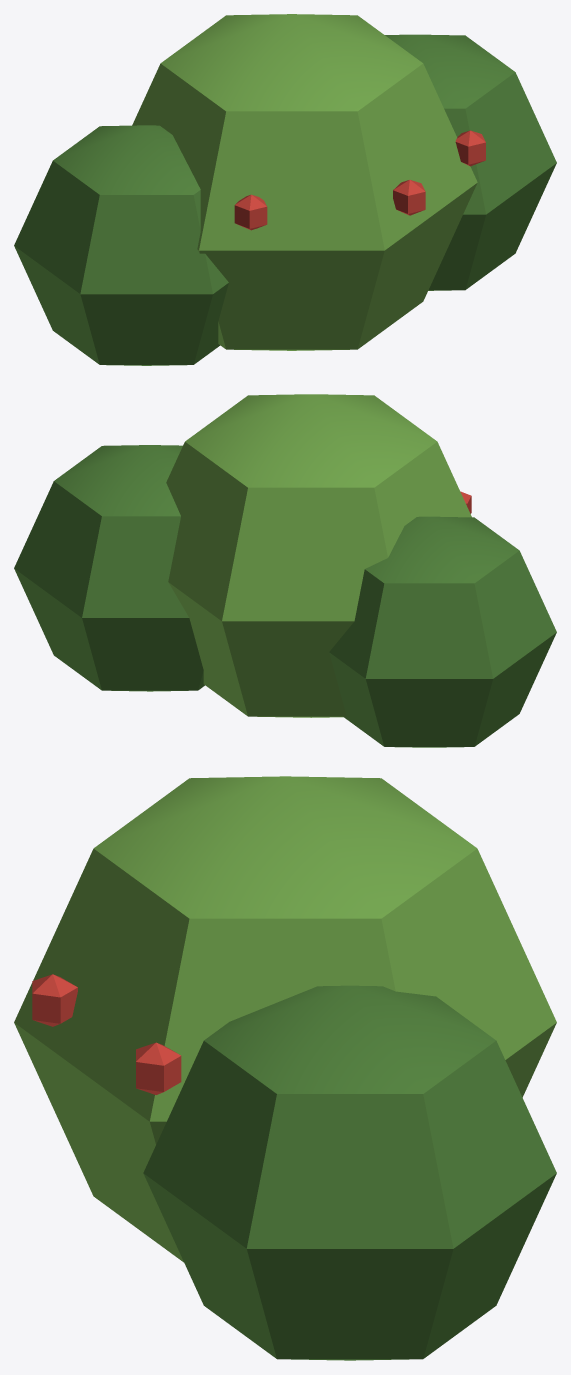
Rendered from PR_Nature_Cali.fbx.
3 views of the same model, one above another, from view 1: azimuth 30°, elevation 25°; view 2: azimuth 150°, elevation 25°; view 3: azimuth 270°, elevation 25° (orthographic). The views are drawn at different scales.
Visible parts, largest first — view 1: PR_Nature_Cali; view 2: PR_Nature_Cali; view 3: PR_Nature_Cali.
Boxes of the visible parts, x1,y1,x2,y2 form: PR_Nature_Cali: (14,14,556,365); PR_Nature_Cali: (14,394,556,747); PR_Nature_Cali: (14,776,556,1360).
Bounding box in the file's own units: 1.27 × 0.84 × 0.84.
